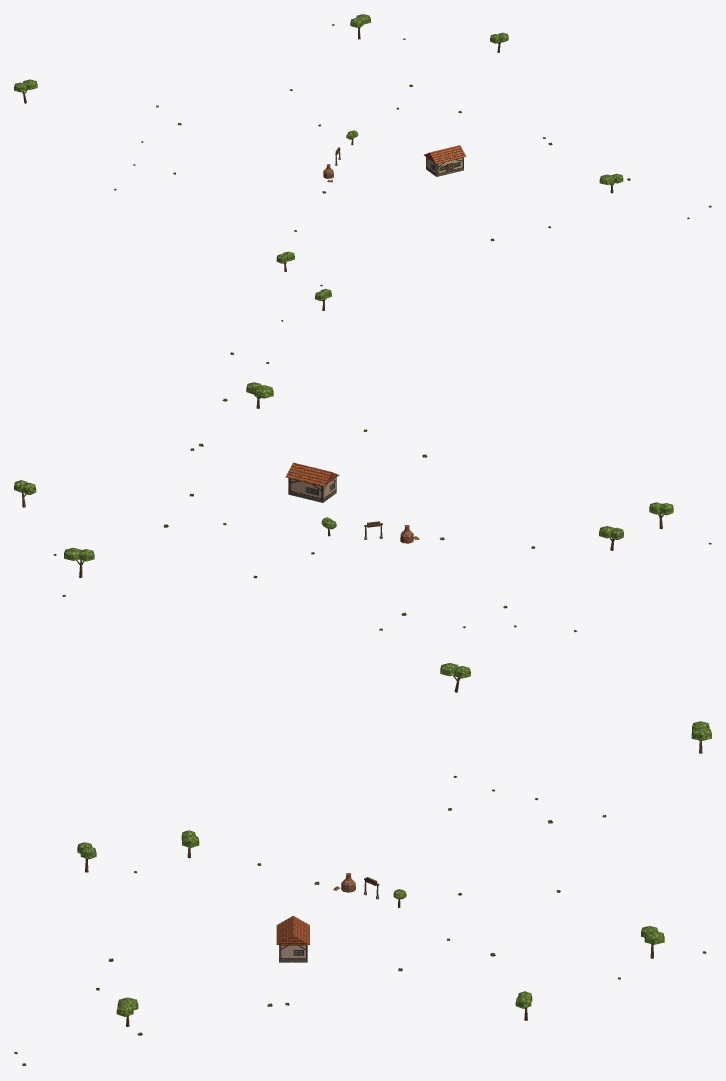
File: FieldCell_4_2.fbx
3 renders of one model, top to bottom at view 1: azimuth 30°, elevation 25°; view 2: azimuth 150°, elevation 25°; view 3: azimuth 270°, elevation 25°, orthographic. The views are drawn at different scales.
Parts seen in each view (by area): view 1: FieldCell_4_2; view 2: FieldCell_4_2; view 3: FieldCell_4_2.
Part boxes in pixels (x1,y1,x2,y2): FieldCell_4_2: [14, 14, 623, 310]; FieldCell_4_2: [14, 382, 673, 692]; FieldCell_4_2: [77, 721, 711, 1026].
Size of the model in its own units: 14859 by 2560 by 15165.
